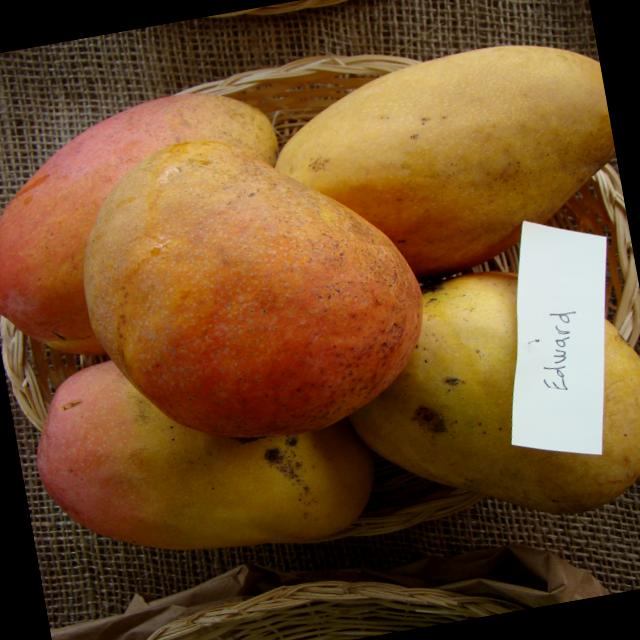mango: (70, 100, 434, 458), (258, 30, 622, 302), (21, 317, 385, 584), (327, 251, 640, 548)
